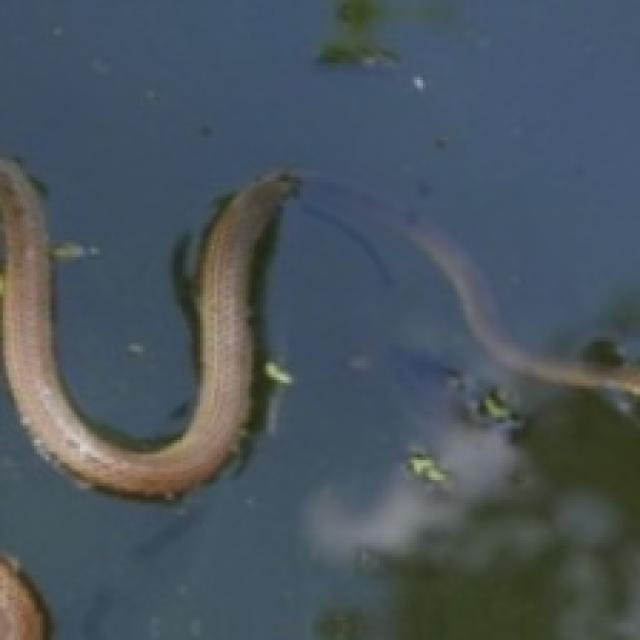gervais worm snake: (0, 157, 294, 497), (303, 174, 640, 397)
